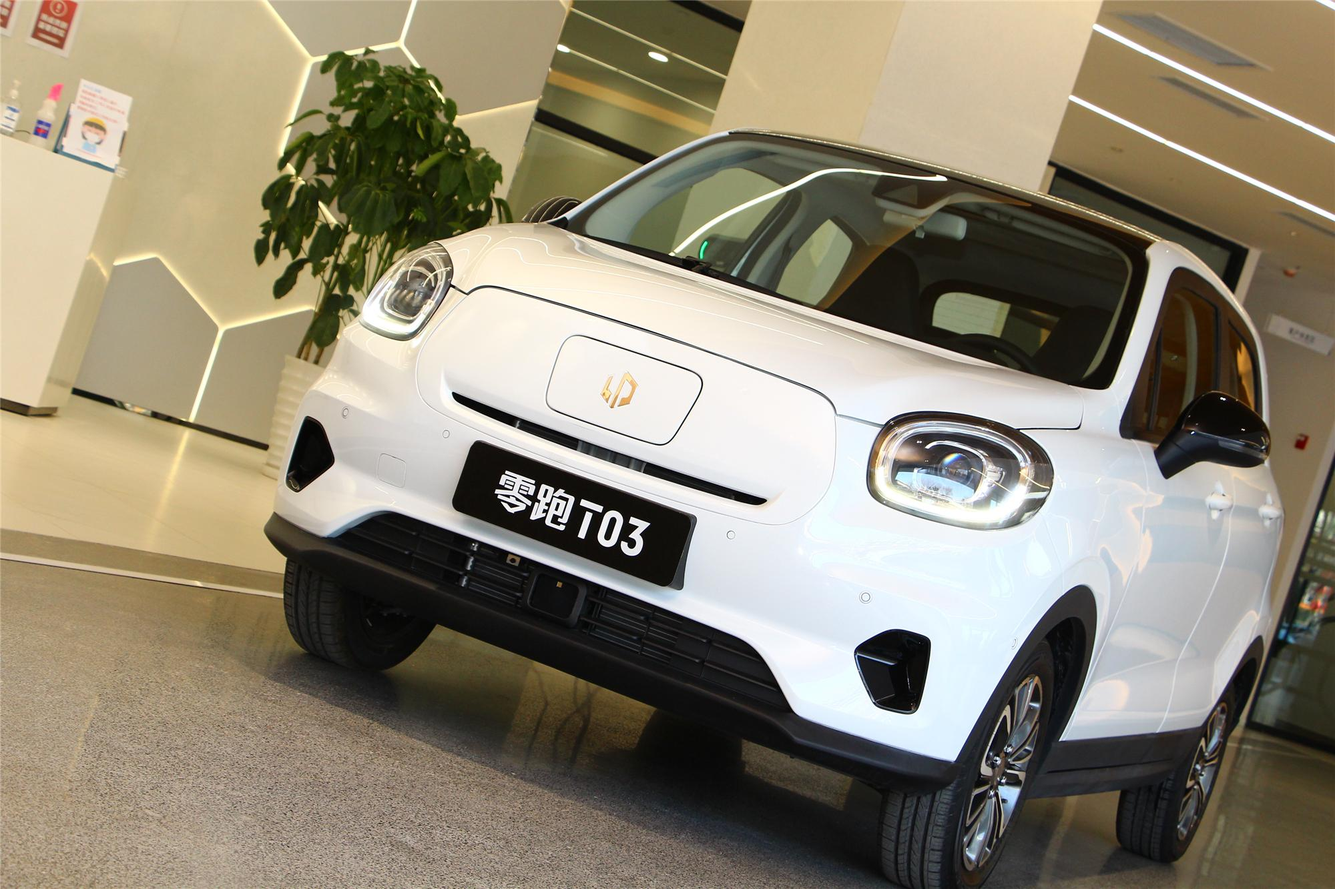LEAPMOTOR: (600, 371, 638, 408)
